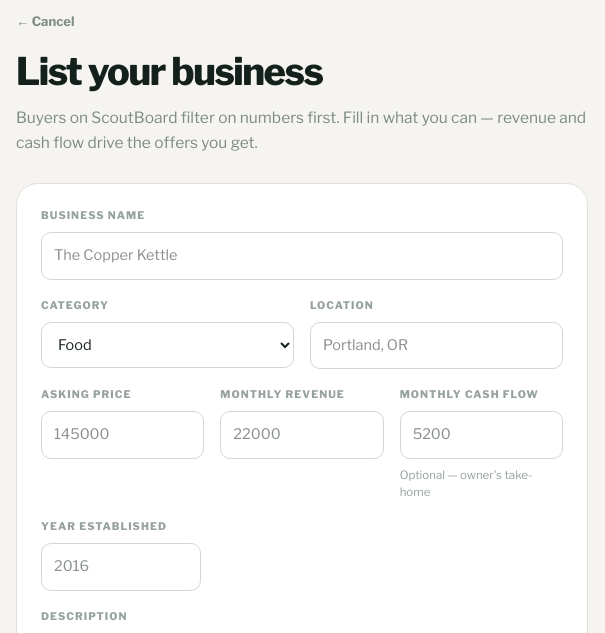
it: ListingForm › ignores non-digit input in Year established instead of showing NaN
Step 1. Type "20ab15" into the field labelled "Year established" → (121, 567), box x1=41 y1=543 x2=201 y2=591
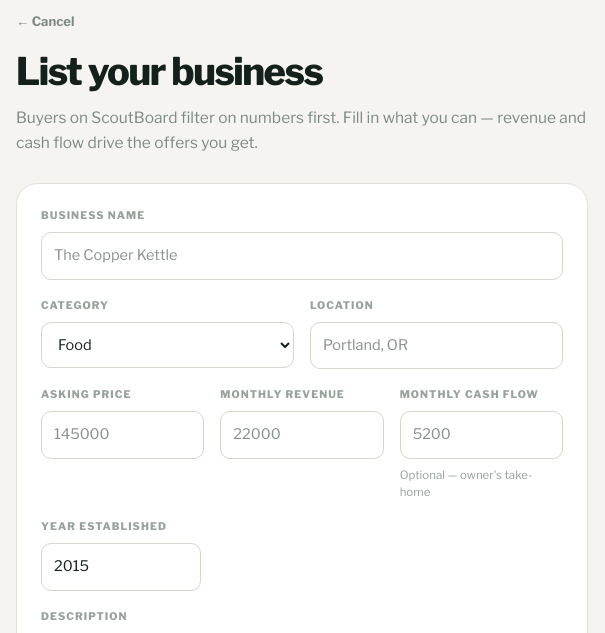
Now the field labelled "Year established" holds "2015"
Step 2. Replace the text in the field labelled "Year established" with "abc" → (121, 567), box x1=41 y1=543 x2=201 y2=591
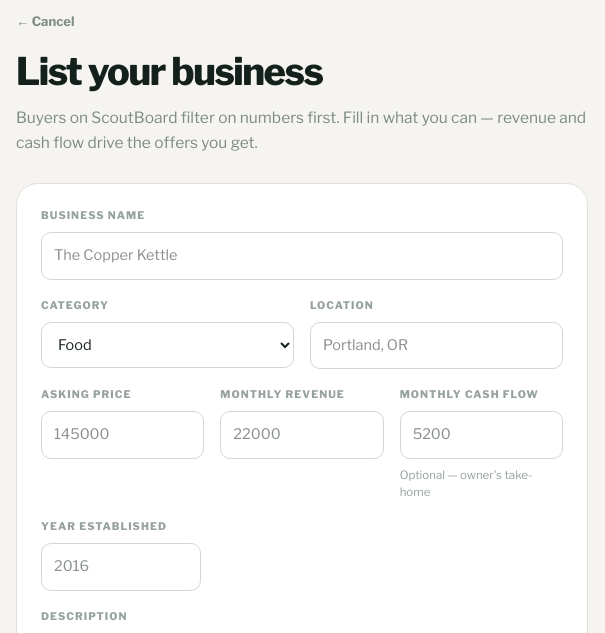
Now the field labelled "Year established" is empty
// Capped at four digits.
Step 3. Type "201567" into the field labelled "Year established" → (121, 567), box x1=41 y1=543 x2=201 y2=591
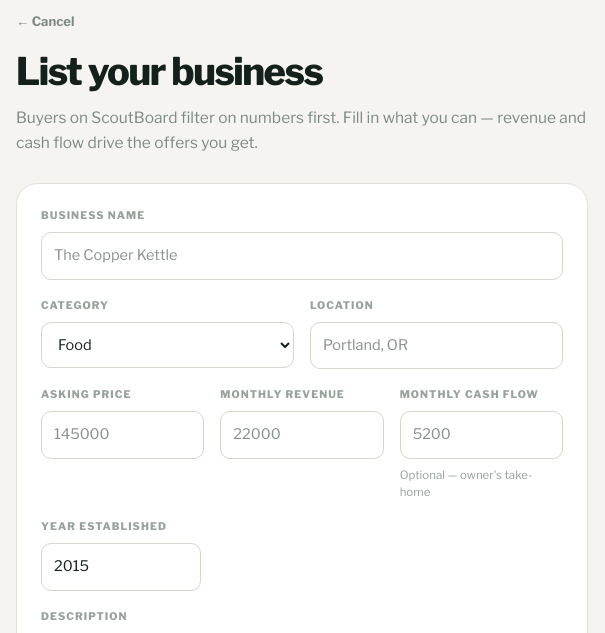
Now the field labelled "Year established" holds "2015", box x1=41 y1=543 x2=201 y2=591
